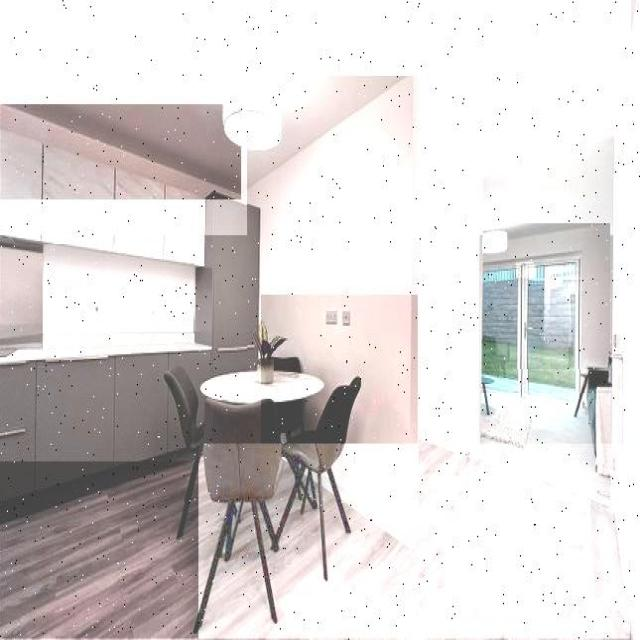Wall: (0, 0, 631, 235), (199, 444, 630, 639), (248, 77, 419, 356), (262, 295, 420, 546), (0, 463, 224, 639), (0, 106, 241, 199), (484, 225, 610, 369), (419, 185, 479, 458), (481, 393, 611, 505), (44, 245, 194, 332), (44, 319, 194, 333), (466, 234, 479, 383), (269, 469, 292, 524)
